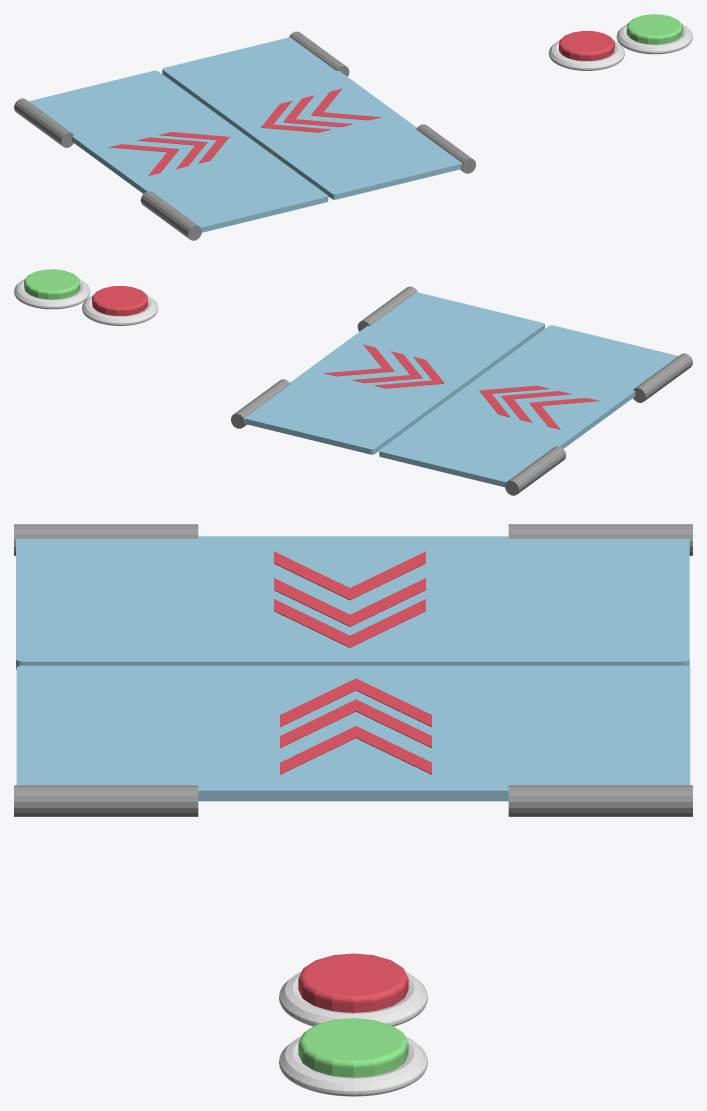
The model's file is obstacle06.fbx.
The picture shows the model from 3 angles, top to bottom: view 1: azimuth 30°, elevation 25°; view 2: azimuth 150°, elevation 25°; view 3: azimuth 270°, elevation 25°; orthographic projection. The views are drawn at different scales.
Parts seen in each view (by area): view 1: obstacle06.3, obstacle06.1, obstacle06.2, obstacle06.4, obstacle06.8, obstacle06.5, obstacle06.7, obstacle06.6; view 2: obstacle06.3, obstacle06.1, obstacle06.2, obstacle06.4, obstacle06.8, obstacle06.5, obstacle06.7, obstacle06.6; view 3: obstacle06.1, obstacle06.3, obstacle06.4, obstacle06.2, obstacle06.8, obstacle06.5, obstacle06.7, obstacle06.6.
Part boxes in pixels (x1,y1,x2,y2): obstacle06.3: (162,37,462,199); obstacle06.1: (29,70,328,232); obstacle06.2: (14,98,201,240); obstacle06.4: (289,31,475,173); obstacle06.8: (626,14,682,44); obstacle06.5: (559,31,614,60); obstacle06.7: (616,23,692,54); obstacle06.6: (548,40,624,70); obstacle06.3: (244,292,544,454); obstacle06.1: (379,325,678,487); obstacle06.2: (505,353,692,495); obstacle06.4: (231,286,417,428); obstacle06.8: (24,269,80,299); obstacle06.5: (92,286,147,315); obstacle06.7: (14,278,90,309); obstacle06.6: (82,295,158,325); obstacle06.1: (16,536,689,669); obstacle06.3: (16,665,690,801); obstacle06.4: (14,785,692,816); obstacle06.2: (14,524,692,555); obstacle06.8: (298,1018,408,1077); obstacle06.5: (298,953,408,1012); obstacle06.7: (279,1036,427,1096); obstacle06.6: (279,971,427,1026).
Bounding box in the file's own units: 487 × 14.52 × 250.
